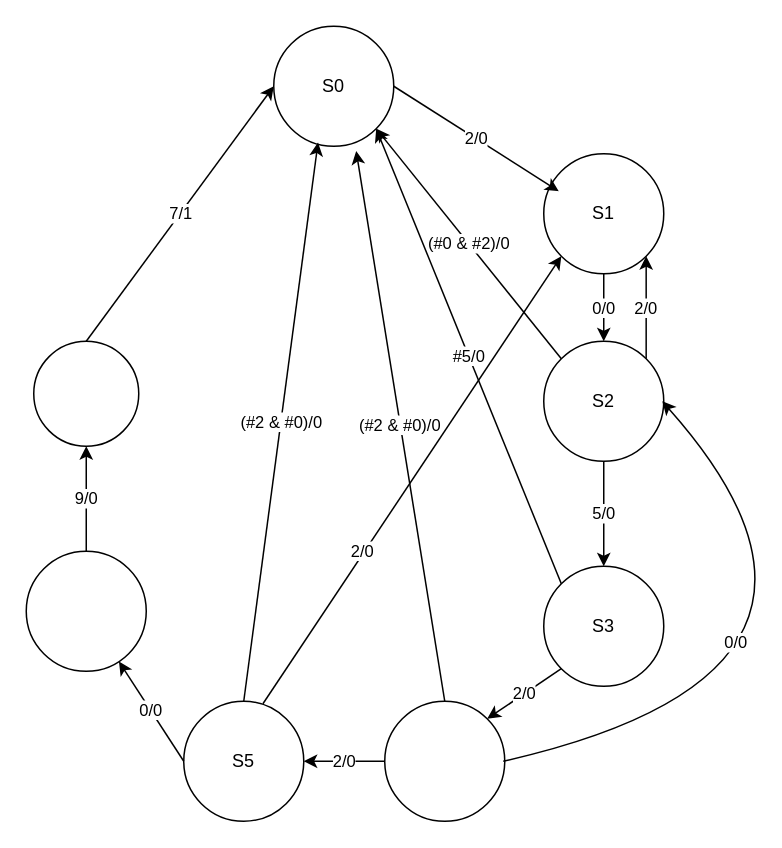
This 782x848 diagram has some shape labels left out. The shapes that lost their labels are listed below. From the top down, each one's box as (x1, y1, x2, y2) in pixels, then its label:
(32, 340, 139, 446): S7
(25, 550, 146, 671): S6
(383, 700, 505, 821): S4
